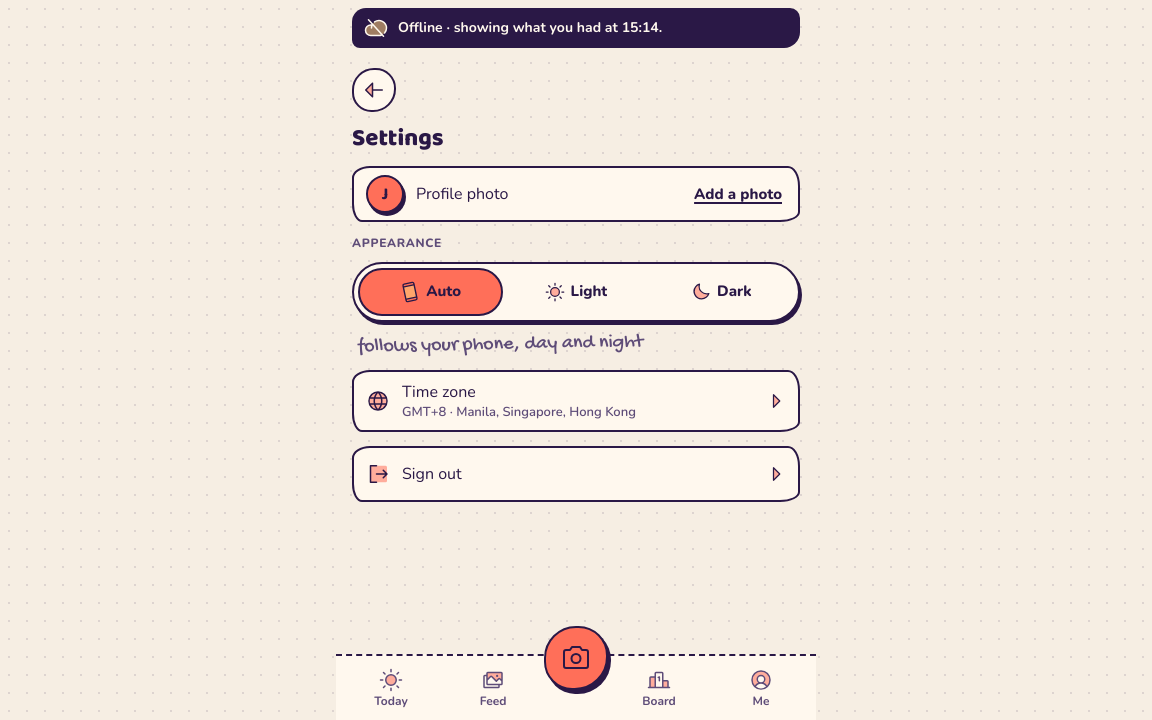
Test: sign-out with waiting photos › asks first; closing the Sheet keeps everything
This screenshot has width=1152, height=720.
Check: the heading "Settings" is shown, box x1=352 y1=119 x2=444 y2=158
Click the button "Sign out" at (432, 474), box x1=354 y1=448 x2=798 y2=500
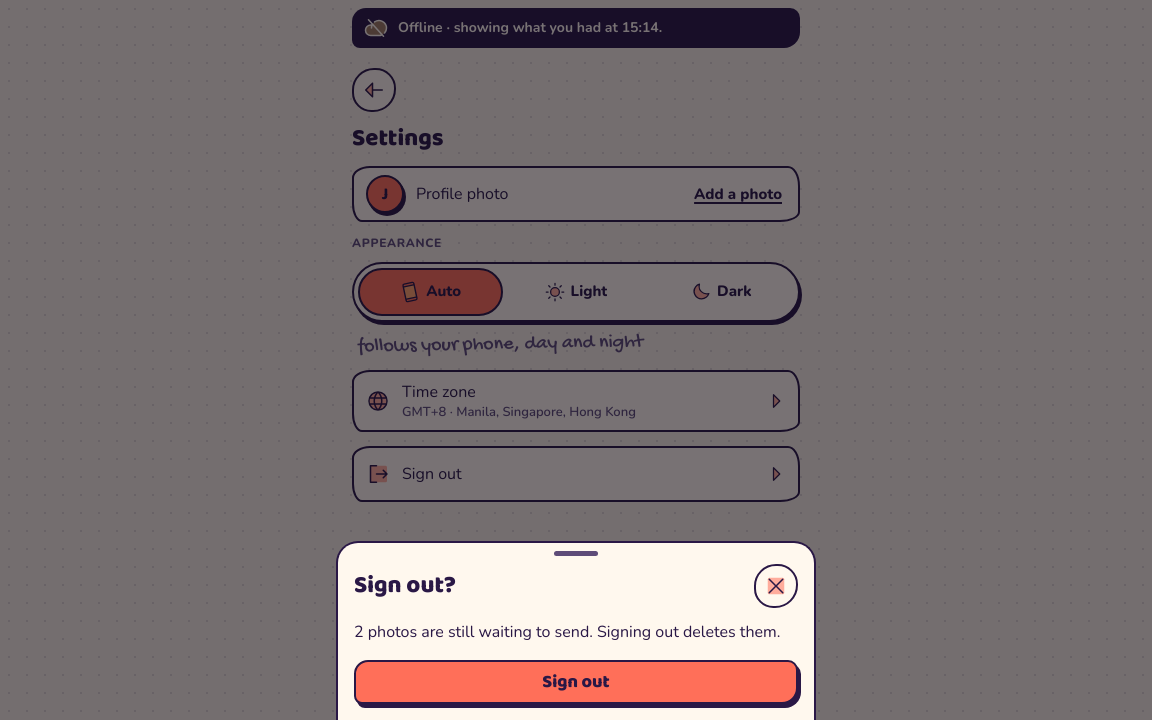
Check: the dialog "Sign out?" is shown, box x1=336 y1=541 x2=816 y2=719
Check: the text "2 photos are still waiting to send. Signing out deletes them." is shown, box x1=354 y1=620 x2=798 y2=644
Press Escape
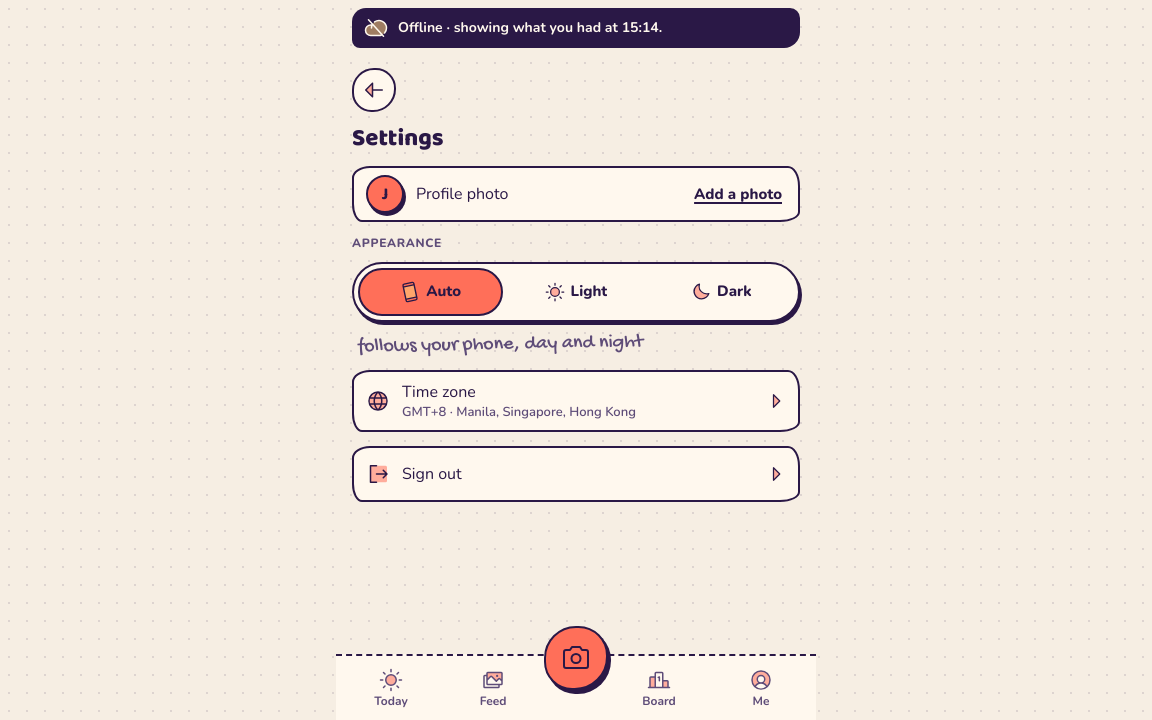
Check: the dialog is gone
